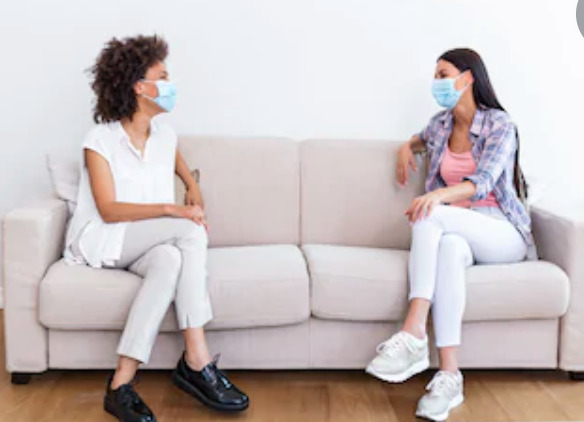Good: (62, 31, 532, 422)
